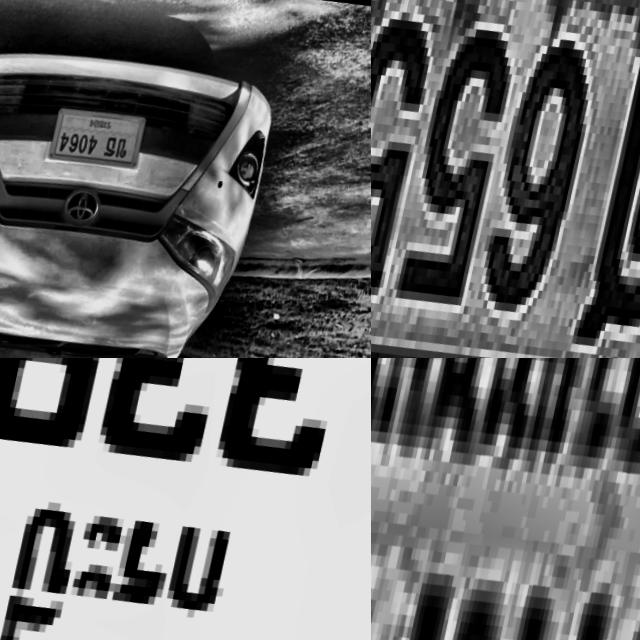license-plate: (0, 358, 371, 640), (371, 0, 640, 358), (371, 358, 640, 640), (47, 105, 150, 185)
